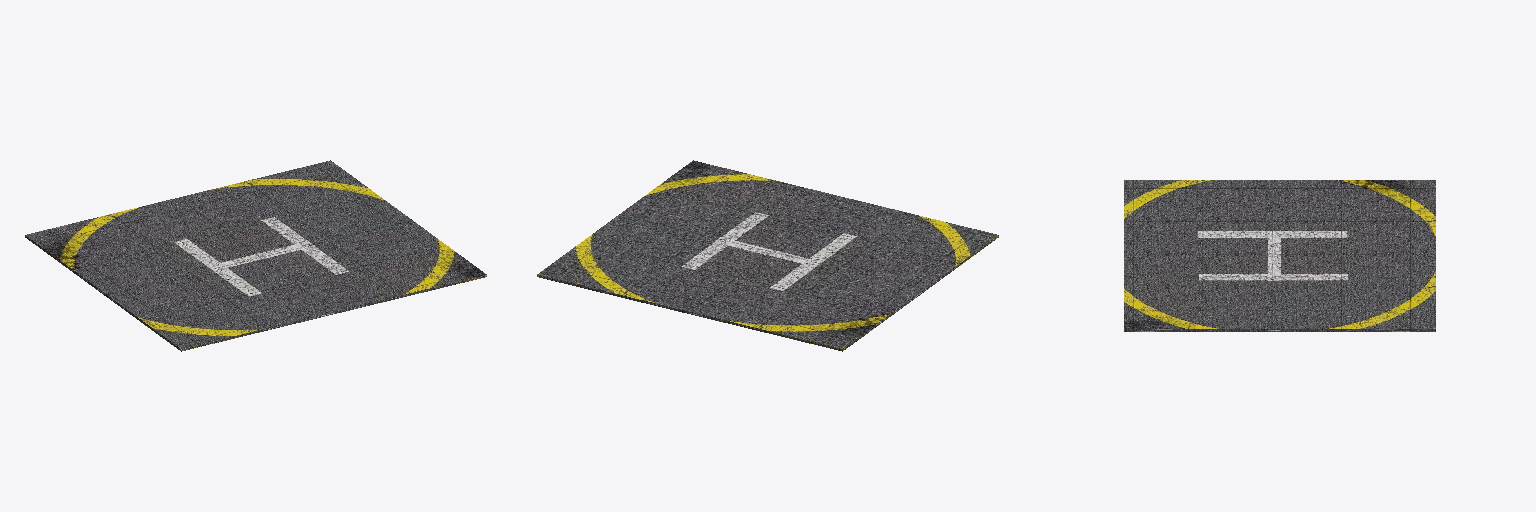
The picture shows the model from 3 angles: view 1: azimuth 30°, elevation 25°; view 2: azimuth 150°, elevation 25°; view 3: azimuth 270°, elevation 25°; orthographic projection.
Parts seen in each view (by area): view 1: Cube; view 2: Cube; view 3: Cube.
Boxes of the visible parts, x1,y1,x2,y2 form: Cube: [25, 160, 486, 351]; Cube: [537, 160, 998, 351]; Cube: [1124, 180, 1435, 331].
Size of the model in its own units: 337 by 2.65 by 298.
Materials: 1 (1 with a texture image).